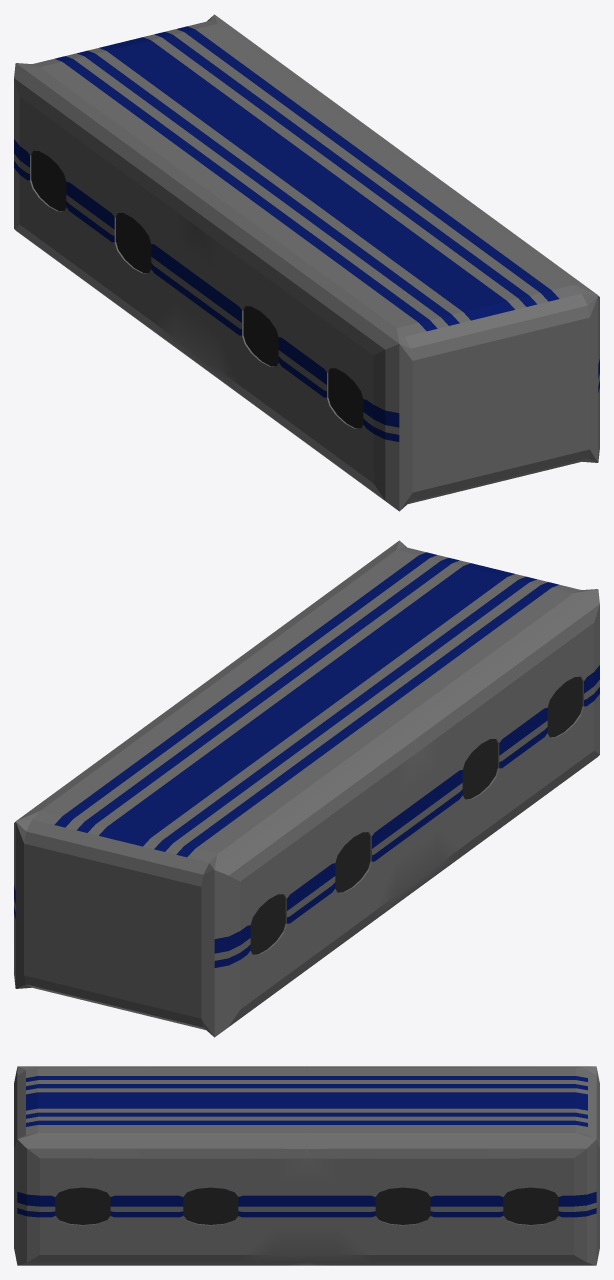
Rendered from Car1.fbx.
3 renders of one model, top to bottom at view 1: azimuth 30°, elevation 25°; view 2: azimuth 150°, elevation 25°; view 3: azimuth 270°, elevation 25°, orthographic. The views are drawn at different scales.
Parts seen in each view (by area): view 1: Cube.003; view 2: Cube.003; view 3: Cube.003.
Part boxes in pixels (<box>): Cube.003: <box>14,14,599,511</box>; Cube.003: <box>14,540,599,1037</box>; Cube.003: <box>14,1066,599,1265</box>.
Bounding box in the file's own units: 366 × 275 × 1115.
